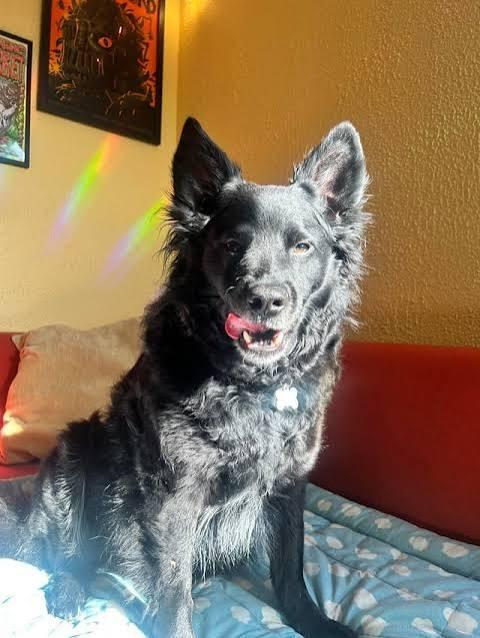adult_dog: (1, 116, 374, 638)
